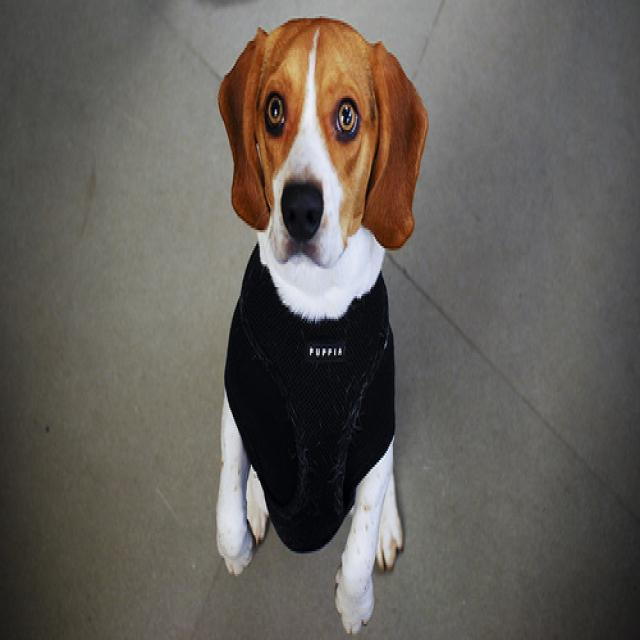dog: (215, 14, 426, 264)
